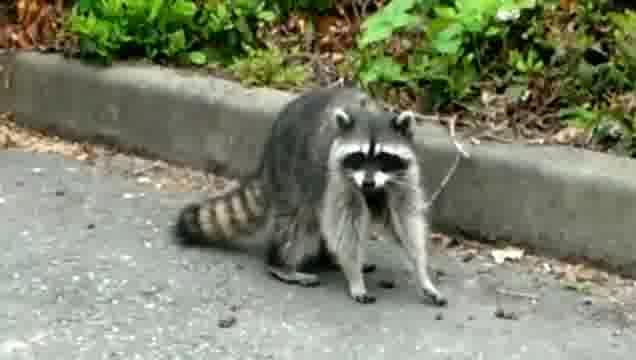raccoon: (168, 84, 456, 309)
